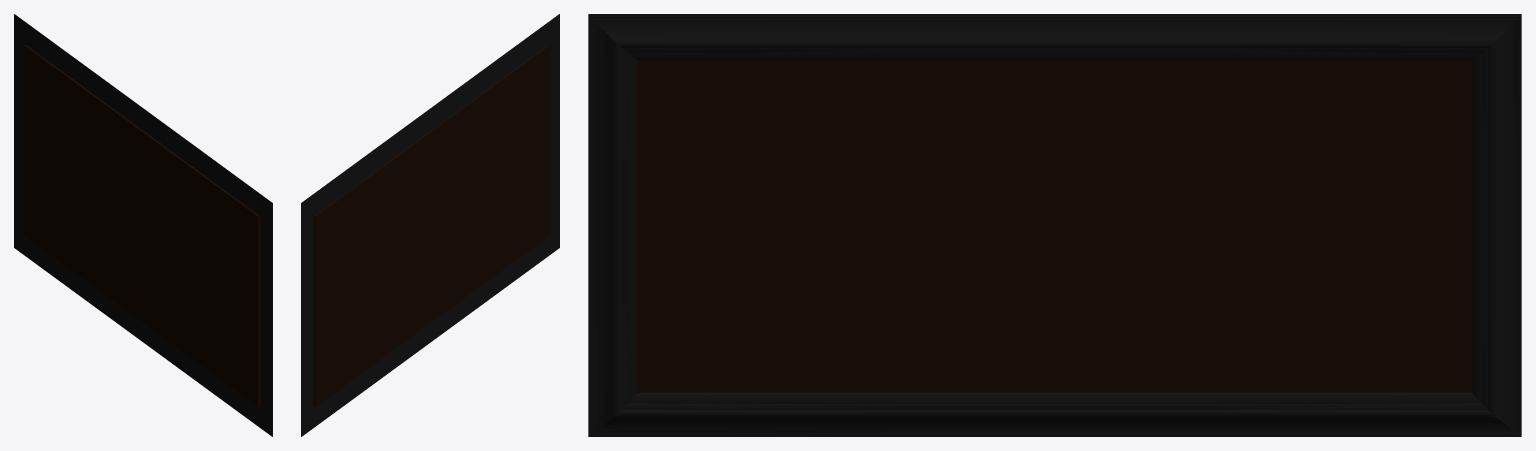
The model's file is mirror.FBX.
3 renders of one model, left to right at view 1: azimuth 30°, elevation 25°; view 2: azimuth 150°, elevation 25°; view 3: azimuth 270°, elevation 25°, orthographic. The views are drawn at different scales.
Parts seen in each view (by area): view 1: Box01, Line464, Line466, Line467, Line03; view 2: Box01, Line464, Line466, Line03, Line467; view 3: Box01, Line464, Line466, Line467, Line03.
Part boxes in pixels (left/top/right/bottom): Box01: left=24, top=45, right=260, bottom=406; Line464: left=14, top=14, right=272, bottom=215; Line466: left=14, top=236, right=271, bottom=436; Line467: left=260, top=203, right=272, bottom=436; Line03: left=14, top=14, right=25, bottom=247; Box01: left=313, top=44, right=550, bottom=406; Line464: left=301, top=14, right=559, bottom=215; Line466: left=301, top=236, right=559, bottom=436; Line03: left=301, top=203, right=313, bottom=436; Line467: left=548, top=14, right=559, bottom=247; Box01: left=637, top=60, right=1472, bottom=392; Line464: left=588, top=14, right=1521, bottom=59; Line466: left=589, top=392, right=1521, bottom=436; Line467: left=588, top=14, right=637, bottom=436; Line03: left=1472, top=15, right=1521, bottom=436.
Bounding box in the file's own units: 3.06 × 94.95 × 190.
